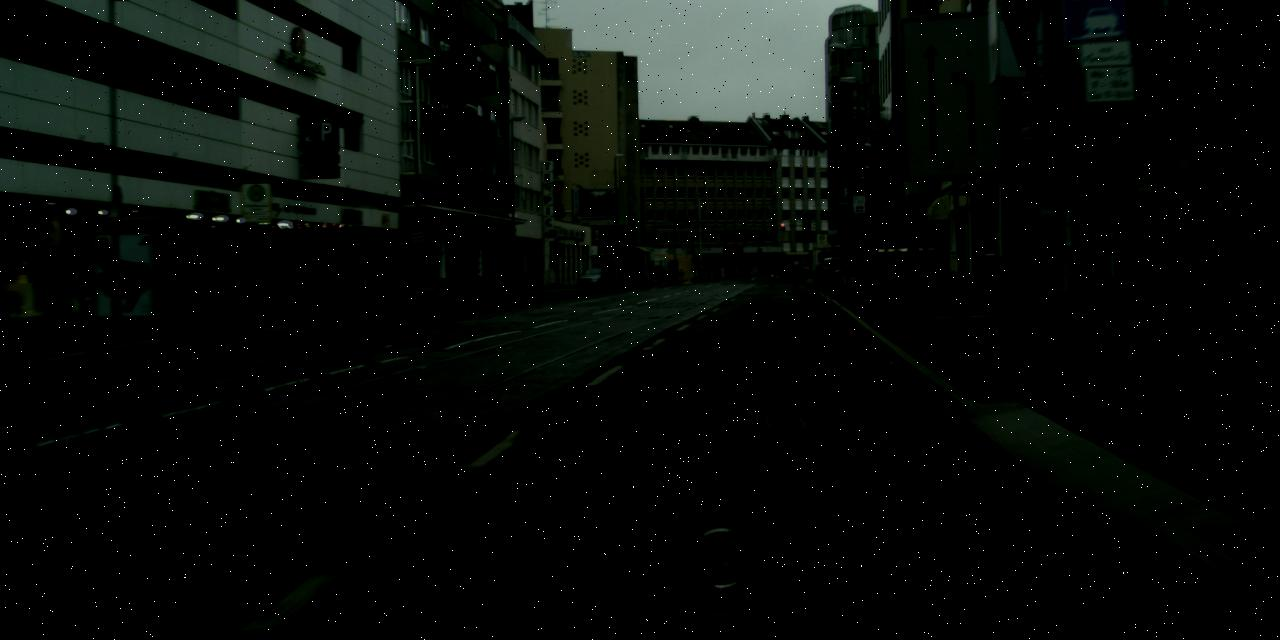ped: (766, 256, 776, 282)
